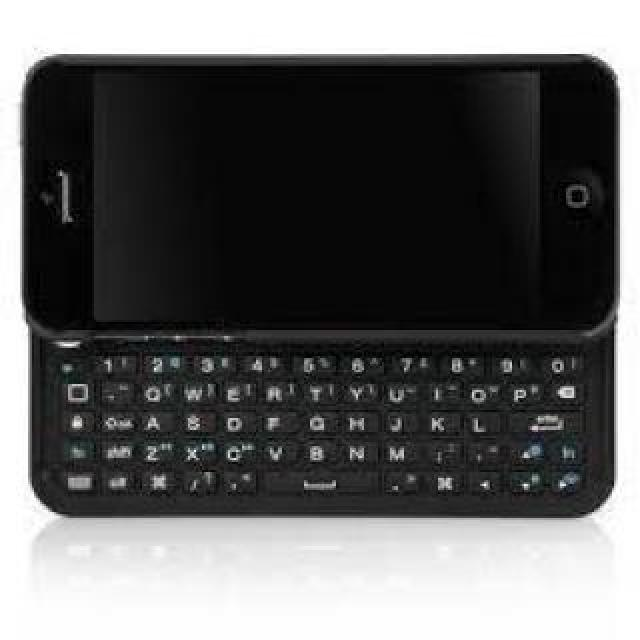smart phone: (26, 20, 640, 350)
